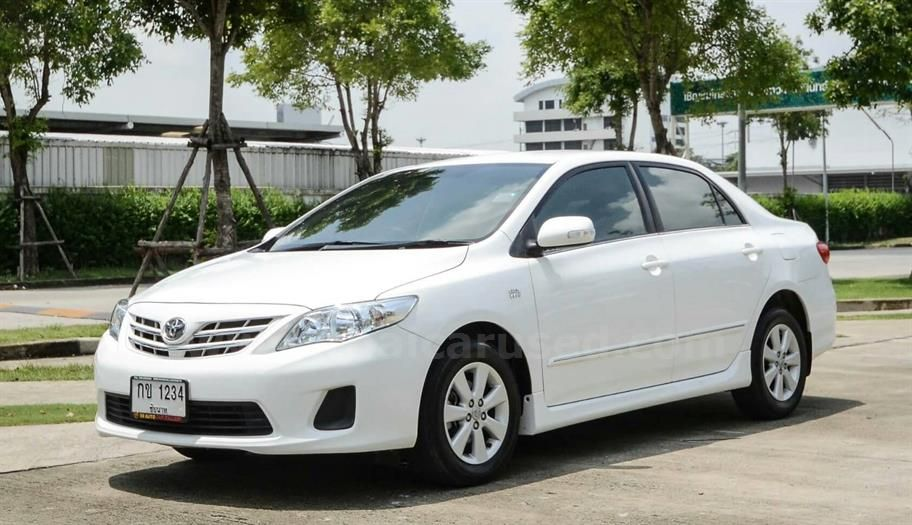sedan: (93, 148, 839, 485)
